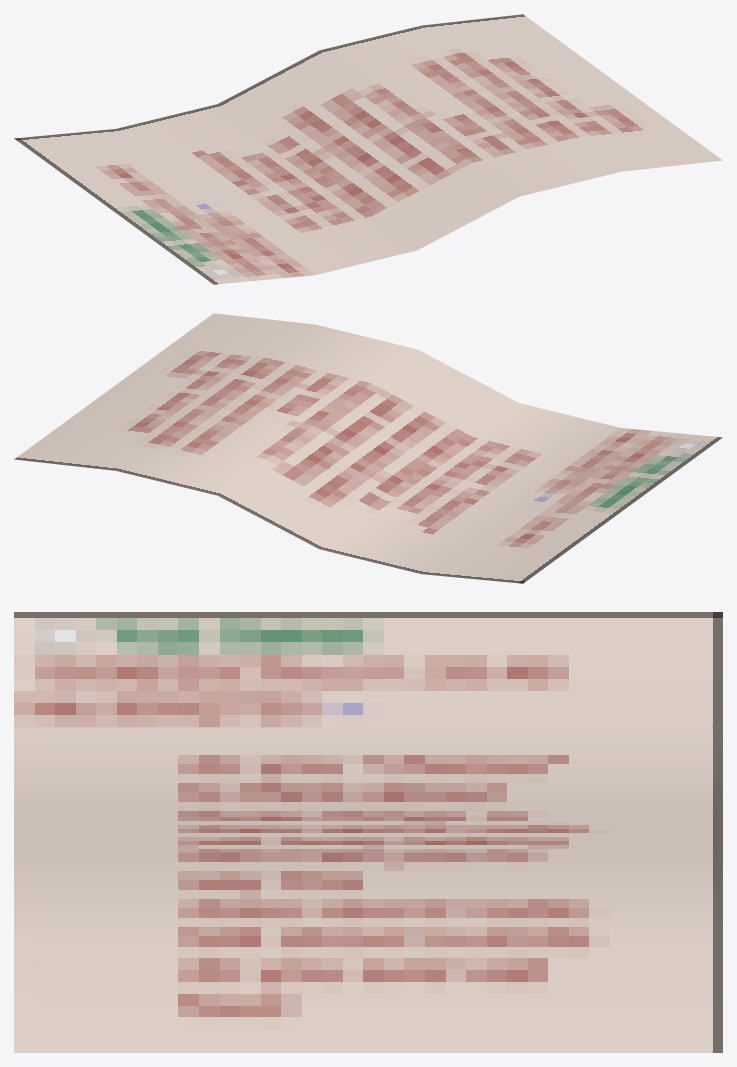
File: ysfile.glb
3 renders of one model, top to bottom at view 1: azimuth 30°, elevation 25°; view 2: azimuth 150°, elevation 25°; view 3: azimuth 270°, elevation 25°, orthographic. The views are drawn at different scales.
Visible parts, largest first — view 1: Plane.001; view 2: Plane.001; view 3: Plane.001.
Boxes of the visible parts, x1,y1,x2,y2 form: Plane.001: (14,14,722,284); Plane.001: (14,313,722,583); Plane.001: (14,612,722,1052).
Size of the model in its own units: 1.47 by 0.0795 by 1.
1 material, 1 textured.
